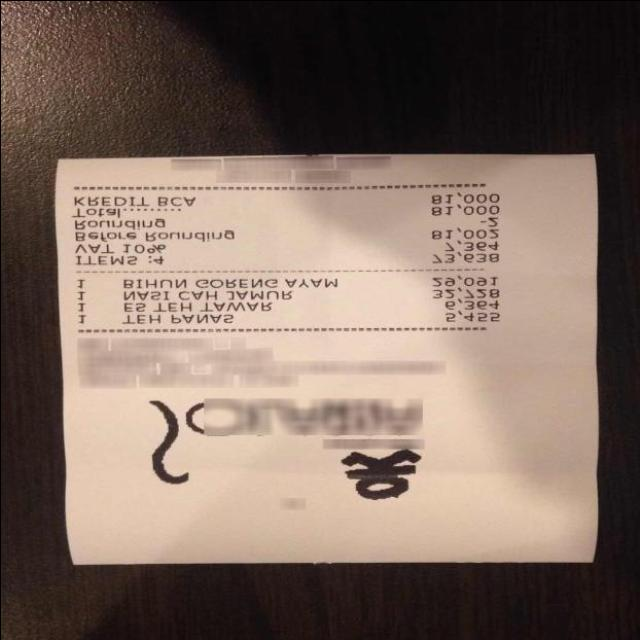kertas: (55, 151, 598, 563)
